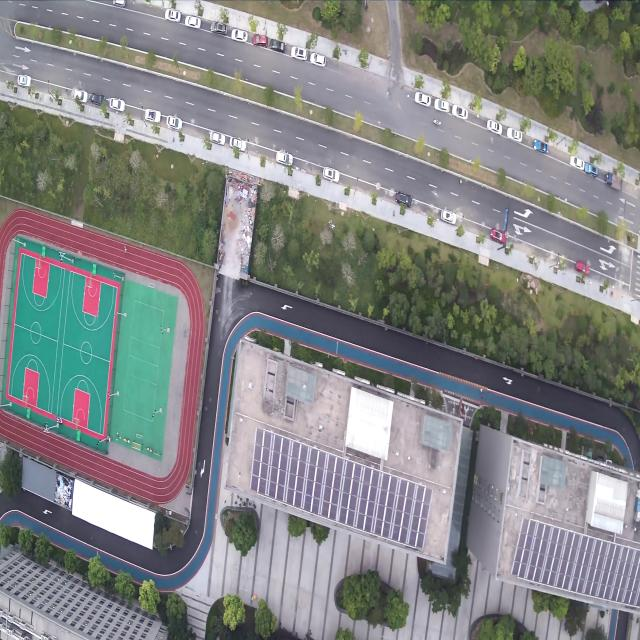drone: (236, 396, 246, 406)
